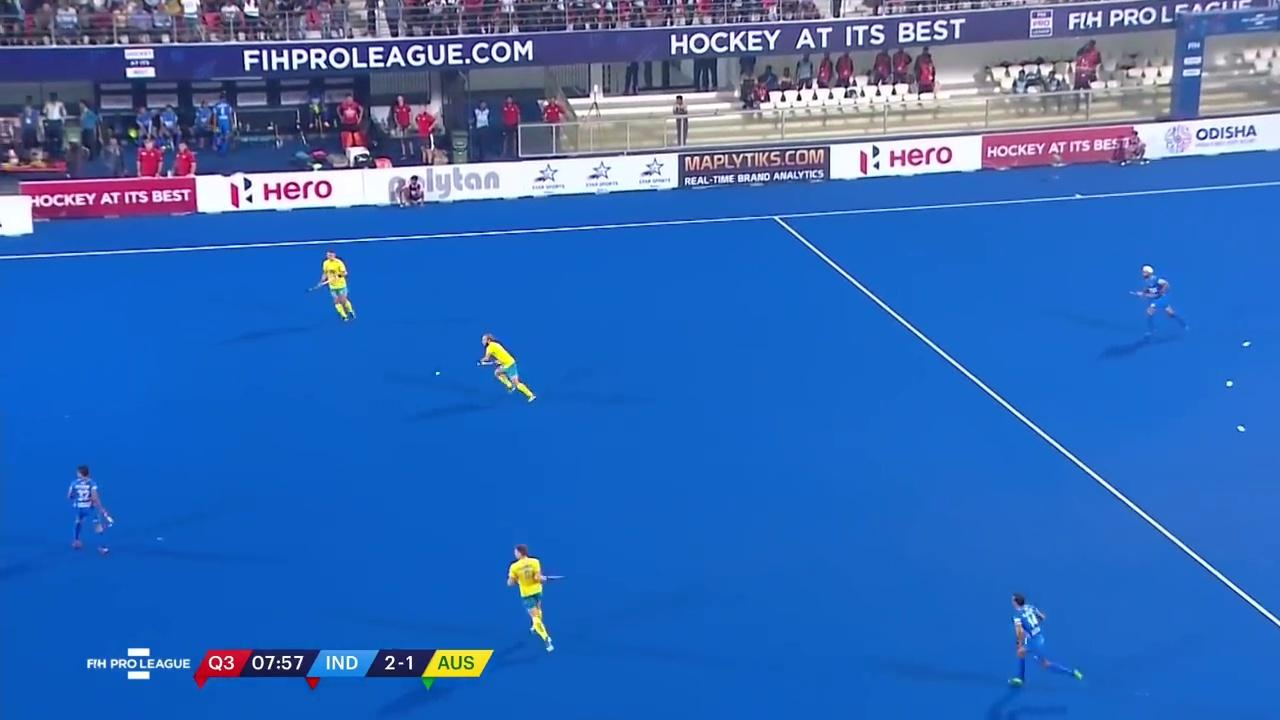ball: (434, 368, 443, 377)
